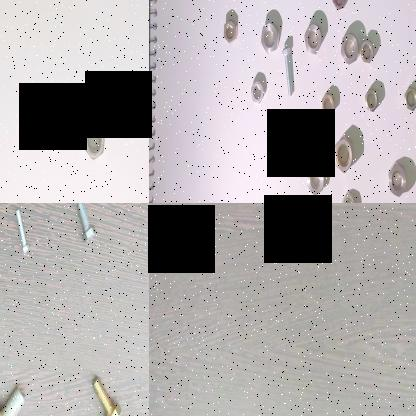Bolts: (88, 370, 123, 416), (266, 112, 286, 171), (75, 203, 97, 247), (11, 208, 31, 256), (0, 377, 24, 416), (283, 39, 297, 103)
NUTS: (81, 119, 106, 163), (332, 136, 354, 178), (387, 160, 410, 200), (308, 160, 328, 200), (260, 16, 280, 56), (302, 20, 324, 56), (218, 12, 240, 46), (42, 115, 60, 156), (338, 30, 358, 64), (282, 127, 300, 158), (360, 36, 376, 68), (249, 76, 266, 106), (364, 87, 382, 115), (319, 93, 337, 119), (405, 84, 416, 112), (328, 0, 347, 12), (340, 191, 357, 203)
